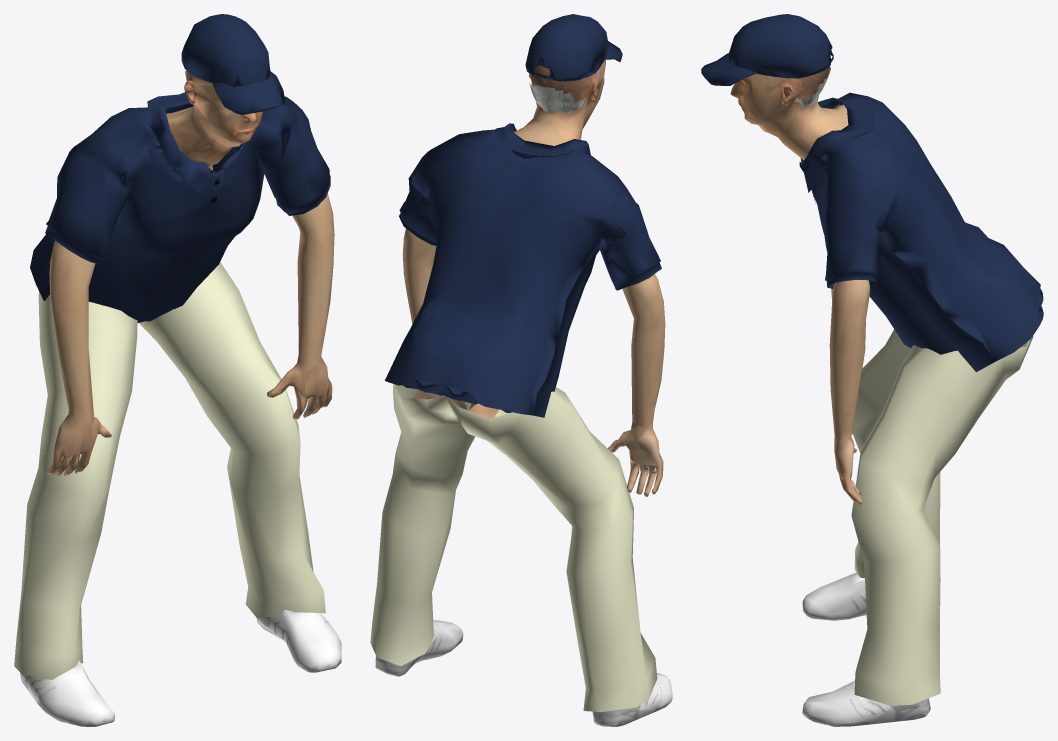
File: linienrichter.glb
The picture shows the model from 3 angles, left to right: view 1: azimuth 30°, elevation 25°; view 2: azimuth 150°, elevation 25°; view 3: azimuth 270°, elevation 25°; orthographic projection. The views are drawn at different scales.
Parts seen in each view (by area): view 1: linienrichter; view 2: linienrichter; view 3: linienrichter.
Boxes of the visible parts, bbox=[...] form: linienrichter: bbox=[14, 14, 341, 726]; linienrichter: bbox=[370, 14, 672, 726]; linienrichter: bbox=[701, 14, 1043, 726].
Size of the model in its own units: 0.5951 by 1.34 by 0.6431.
Materials: 1 (1 with a texture image).
